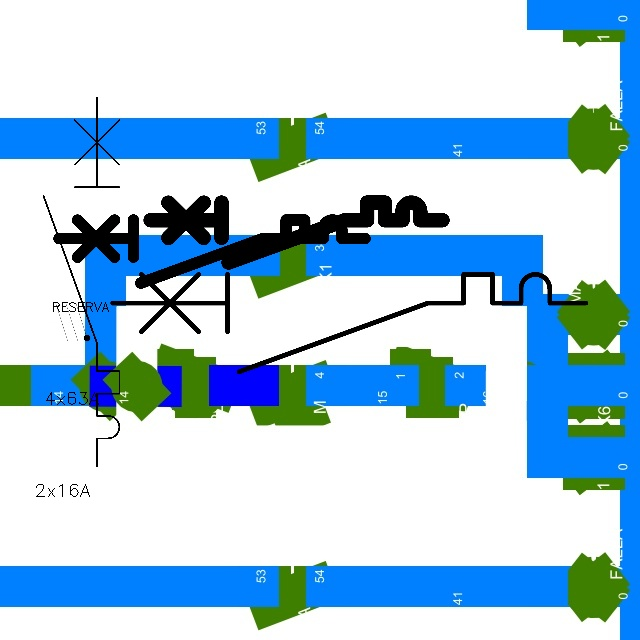interruptor_termomagnetico: (100, 262, 598, 384), (34, 88, 129, 476), (51, 212, 373, 291), (143, 195, 450, 270)
